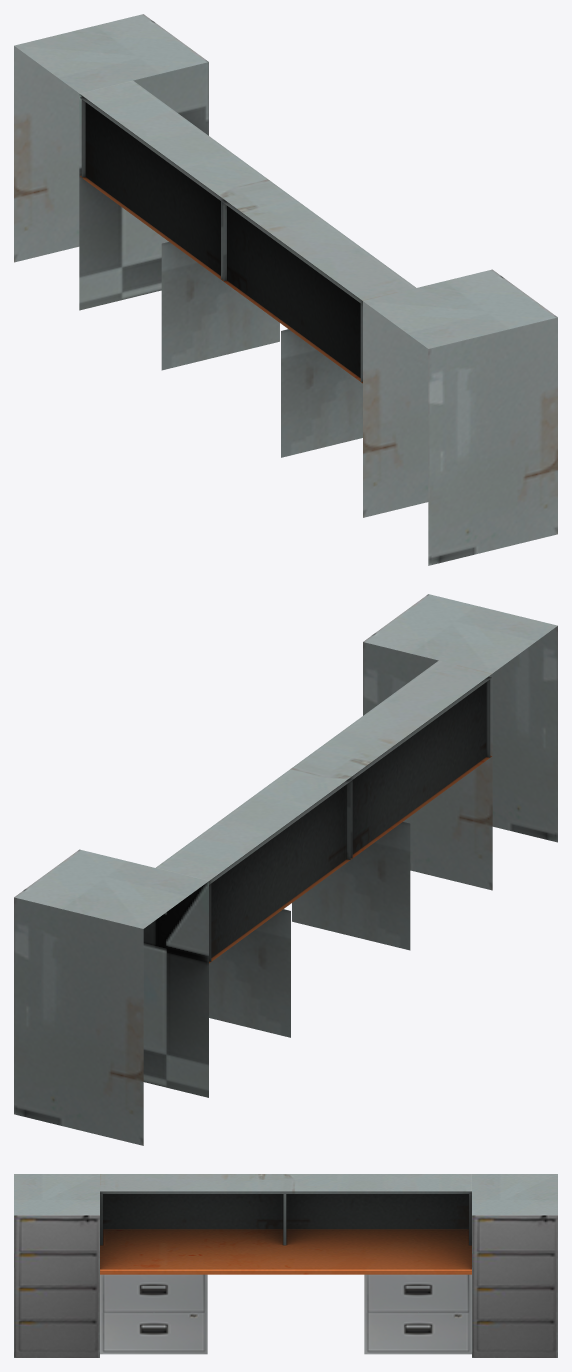
The model's file is Desk_1.fbx.
The picture shows the model from 3 angles, top to bottom: view 1: azimuth 30°, elevation 25°; view 2: azimuth 150°, elevation 25°; view 3: azimuth 270°, elevation 25°; orthographic projection. The views are drawn at different scales.
Parts seen in each view (by area): view 1: Desk_1; view 2: Desk_1; view 3: Desk_1.
Part boxes in pixels (bbox=[...]): Desk_1: bbox=[14, 14, 557, 565]; Desk_1: bbox=[14, 594, 557, 1145]; Desk_1: bbox=[14, 1174, 557, 1357].
Size of the model in its own units: 61.46 by 98.34 by 341.
